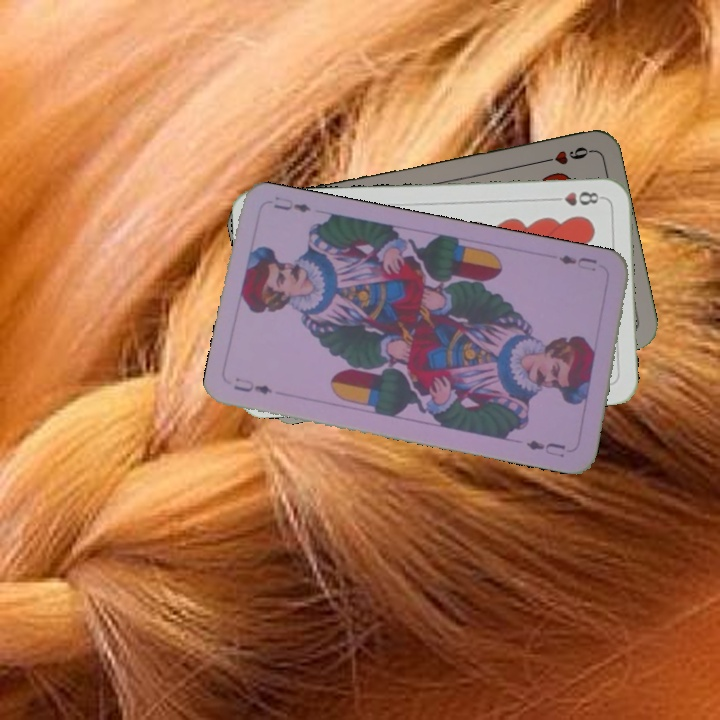EU: (229, 373, 275, 397), (554, 251, 600, 274)
H8: (546, 187, 605, 208)
H9: (535, 142, 594, 167)
